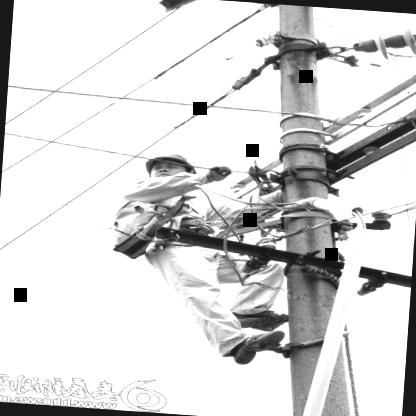helmet: (130, 145, 200, 188)
